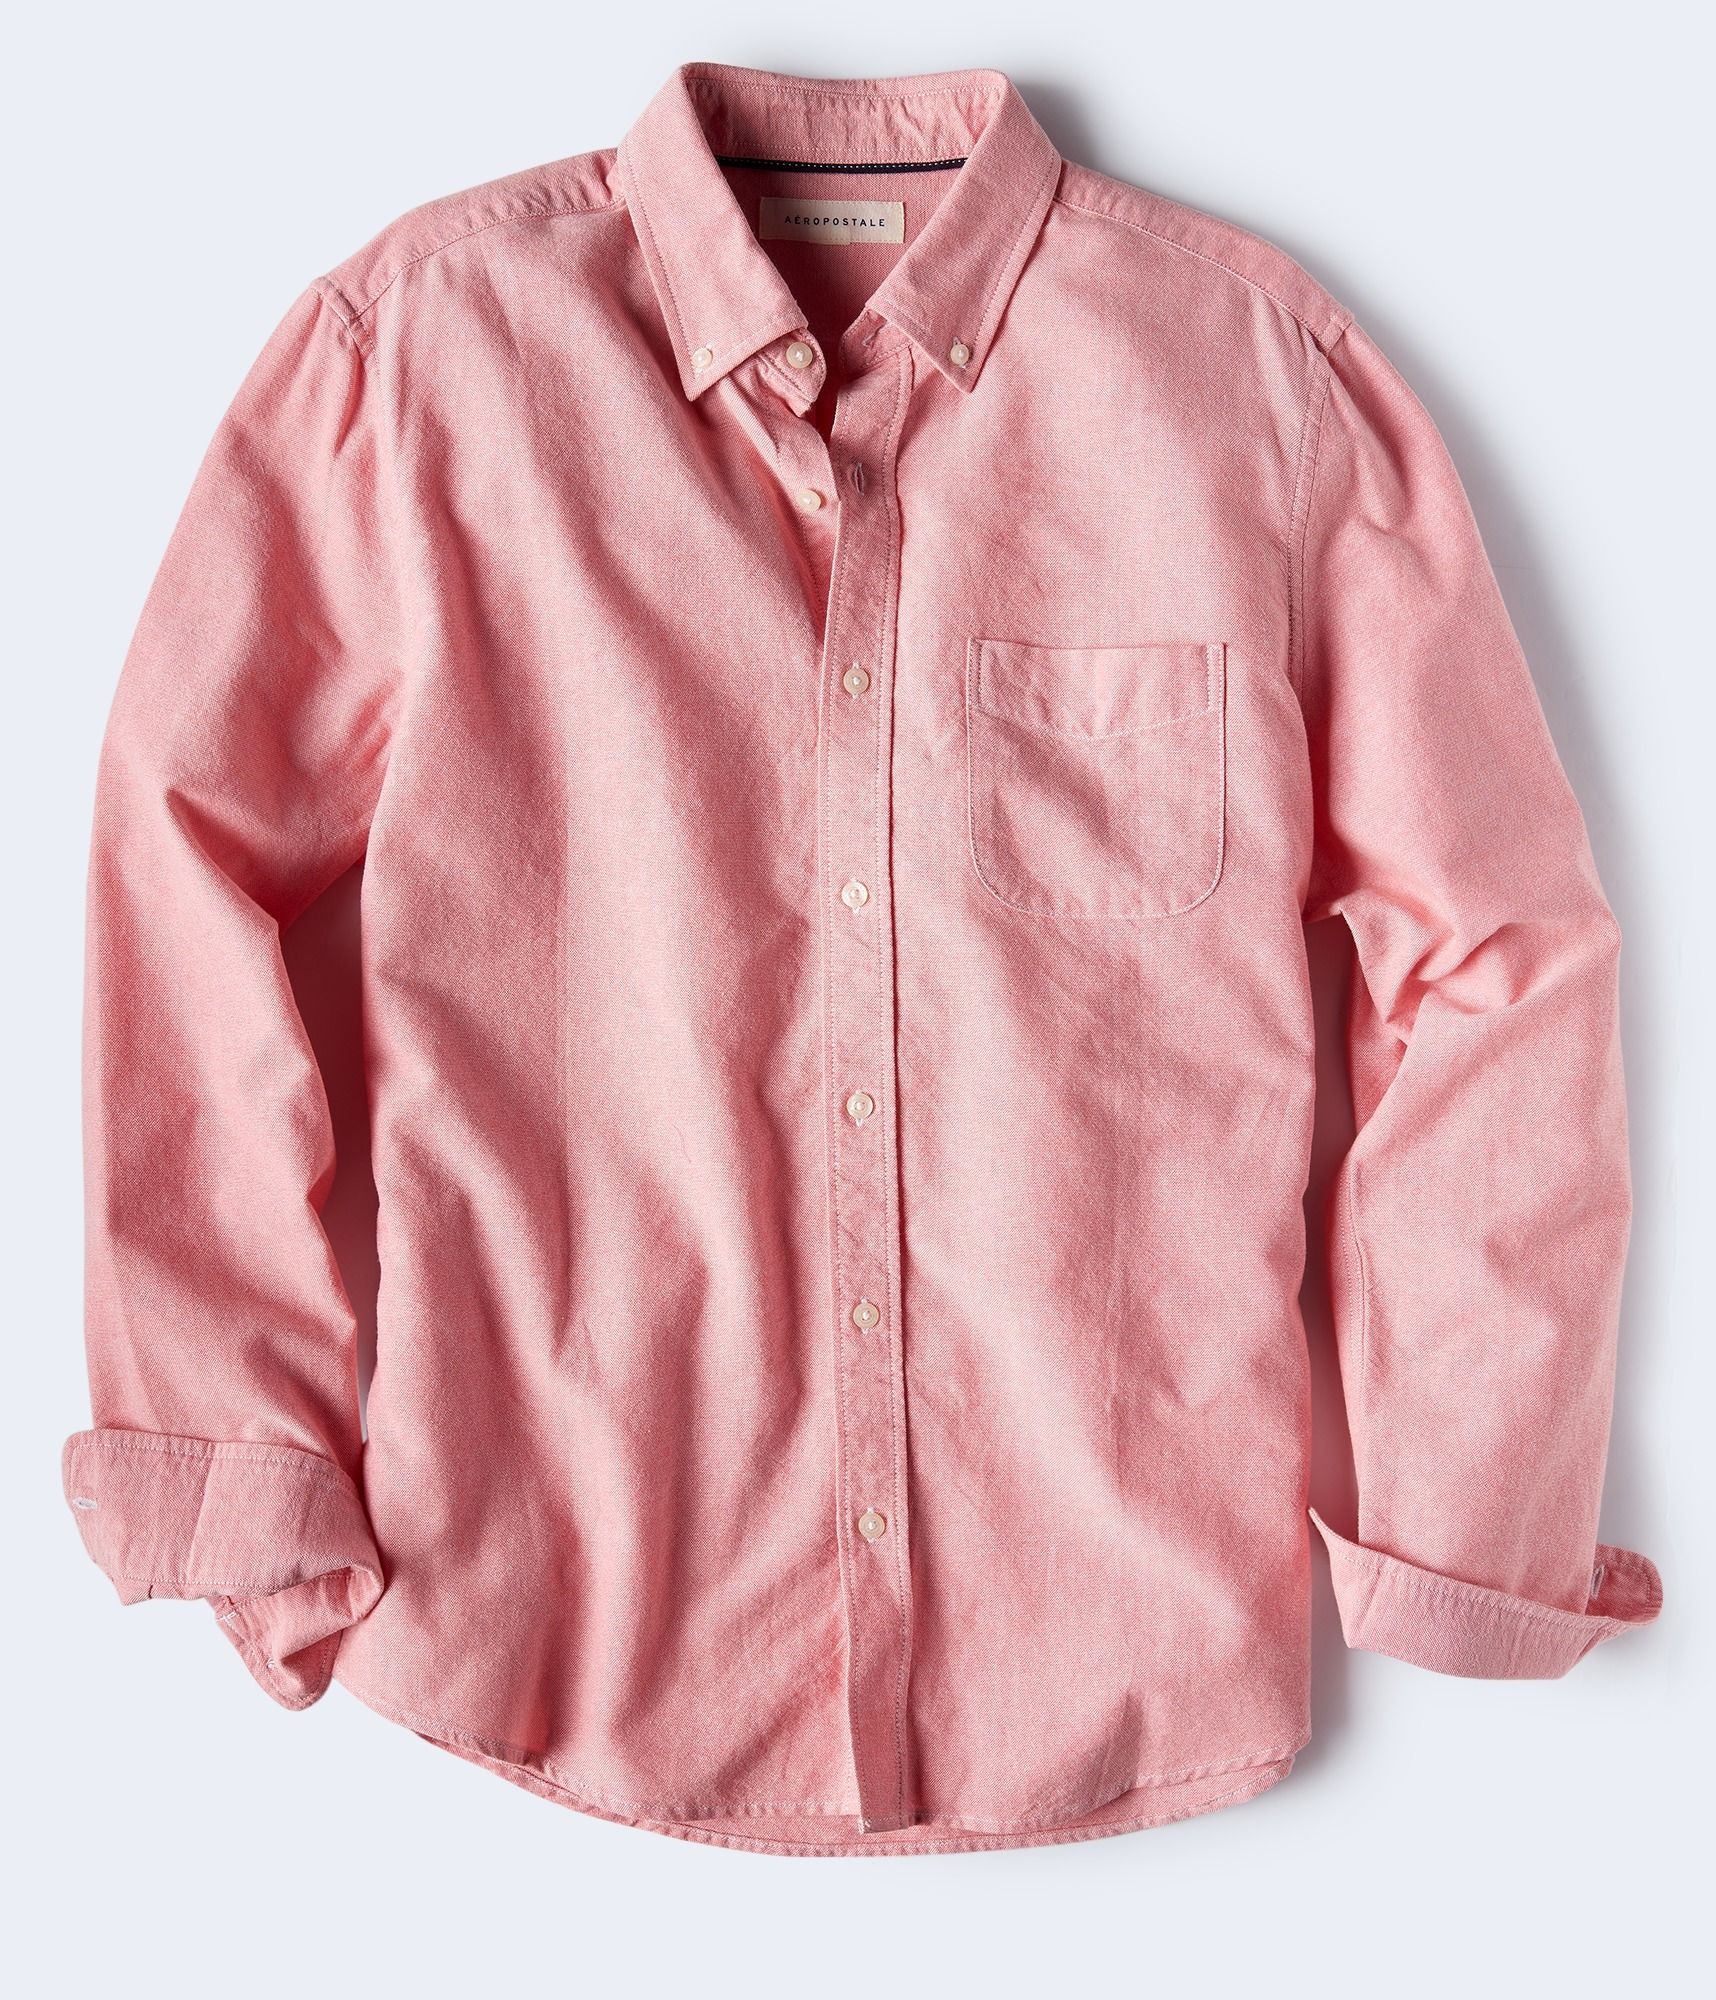C_shirt: (65, 71, 1663, 1838)
